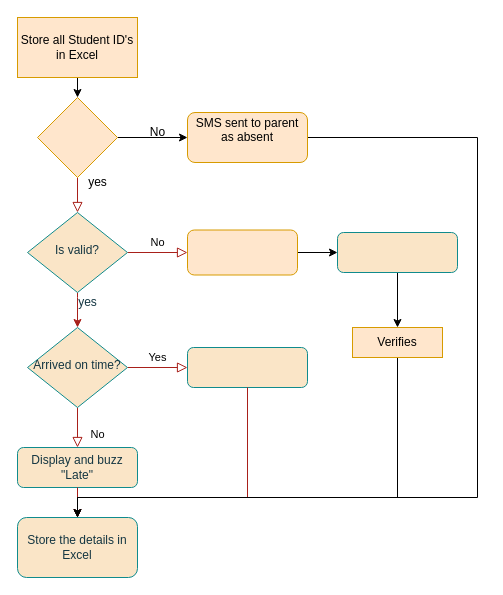
Image size: 503x595. Some labels were removed from this diagram. The shapes that lost their labels are listed below. From the top down, each one's centre as x and y in pixels, then its label:
(77,137): If tag is scanned?
(242,252): Display and buzz "Error"
(397,252): SMS sent to admin
(247,367): Display and buzz "Success"
